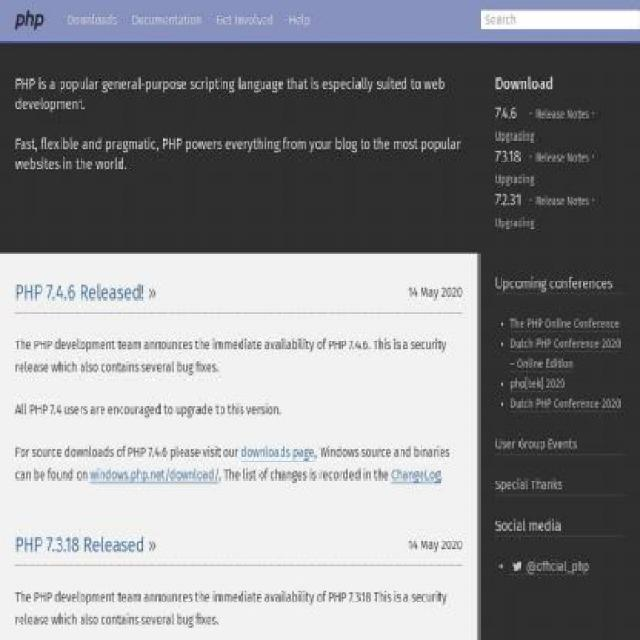button: (510, 336, 621, 372), (125, 0, 209, 40), (208, 0, 281, 40), (494, 273, 626, 295), (494, 434, 626, 455), (494, 475, 626, 496), (60, 0, 125, 40), (90, 467, 219, 484), (0, 0, 52, 40), (510, 396, 621, 412), (510, 316, 619, 332), (280, 0, 318, 40), (510, 558, 588, 576), (240, 444, 314, 461), (510, 376, 565, 392), (392, 467, 439, 484), (495, 103, 527, 123), (495, 147, 527, 167), (495, 190, 527, 210)
field: (480, 10, 640, 32)
